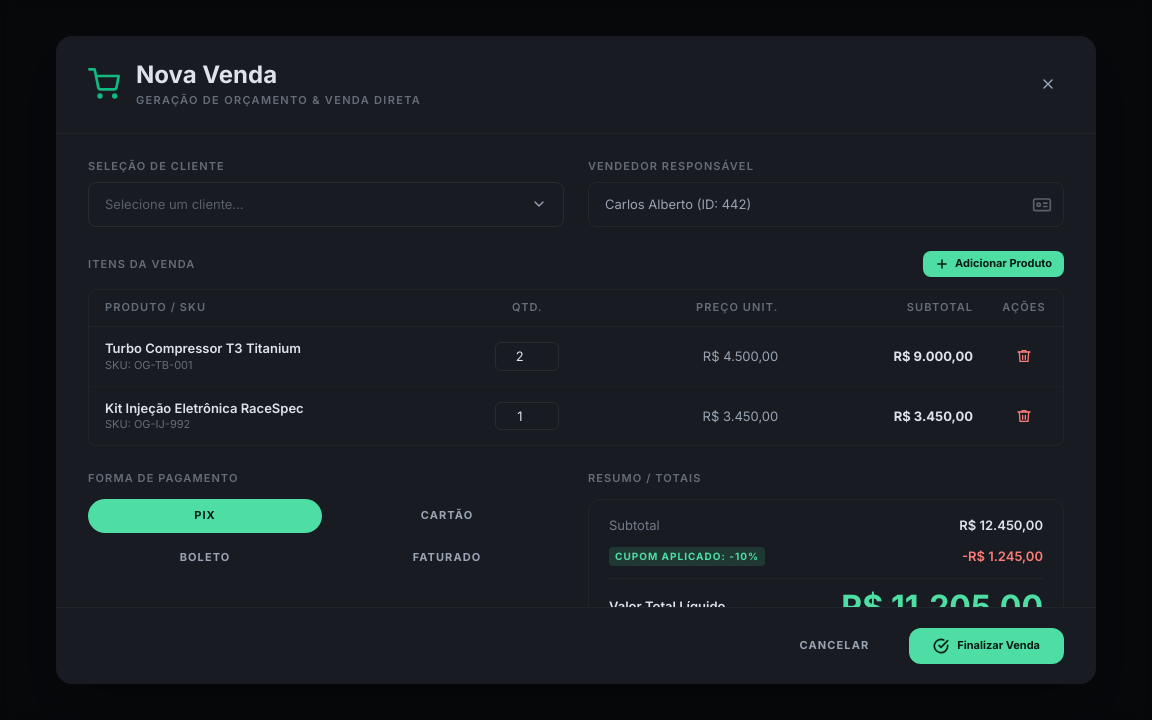
Scenario: SaleFormModal 4.3 — Remoção de Item › clicar na lixeira do 1º item remove o Turbo Compressor
Click the button named "remover turbo compressor".
click(1024, 356)  # box [1008,340,1040,372]
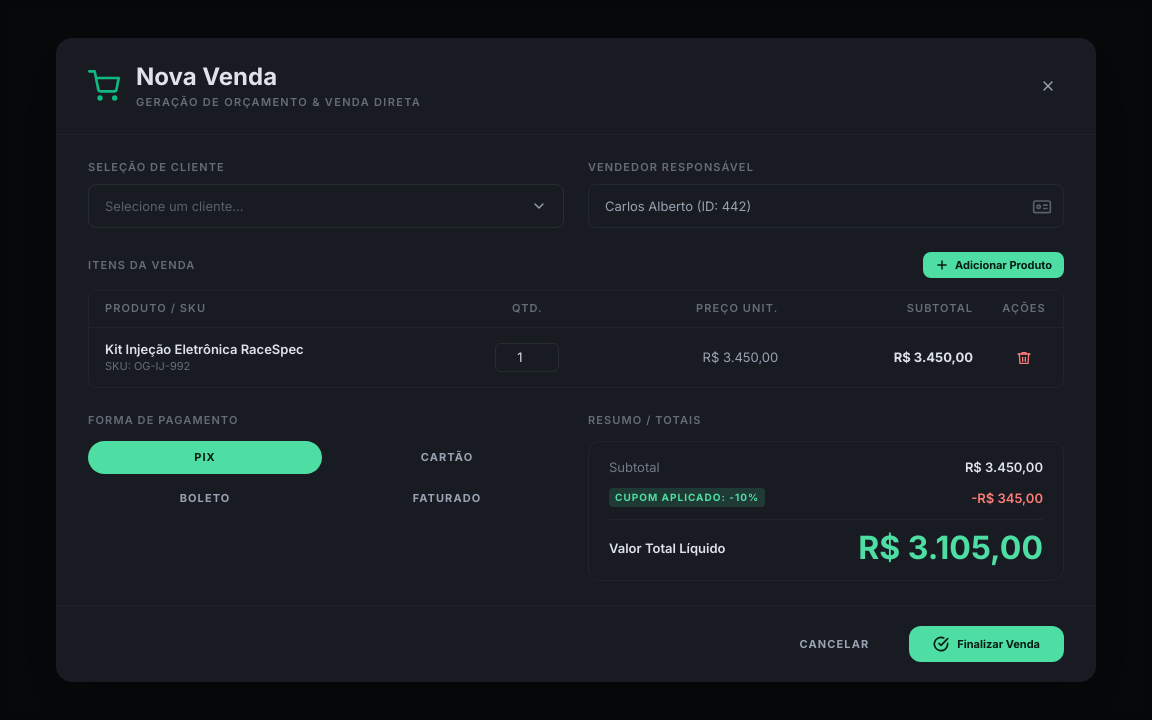
Expected: the text "Turbo Compressor T3 Titanium" is gone
